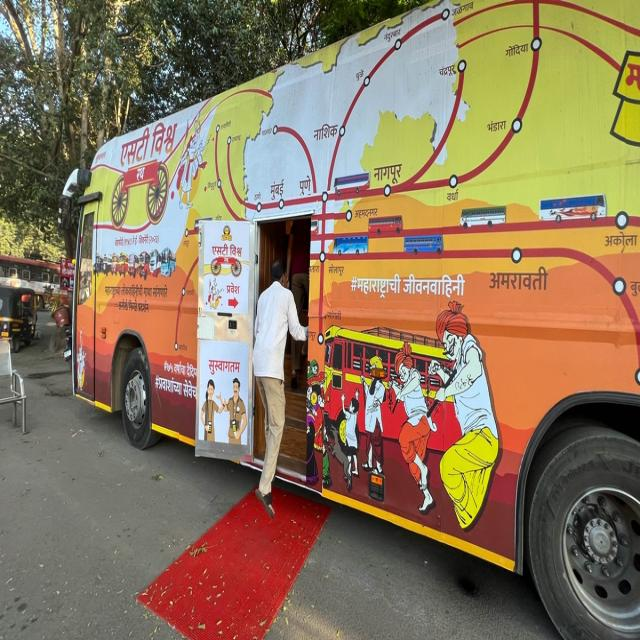bus: (61, 0, 640, 640)
